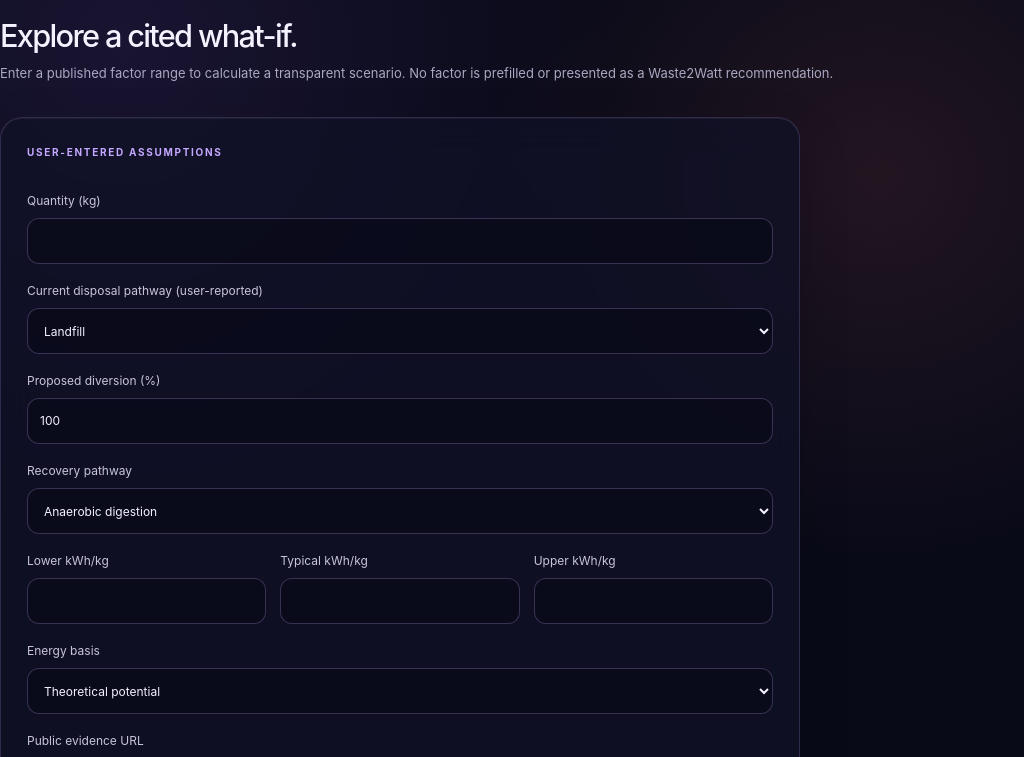
it: important application states › calculates cited scenario inputs and labels them as simulated
Type "2" into the number field labelled "Quantity (kg)" at (400, 241), box x1=27 y1=218 x2=773 y2=264
Replace the text in the number field labelled "Proposed diversion (%)" with "50" at (400, 421), box x1=27 y1=398 x2=773 y2=444
Type "0.1" into the number field labelled "Lower kWh/kg" at (147, 601), box x1=27 y1=578 x2=266 y2=624
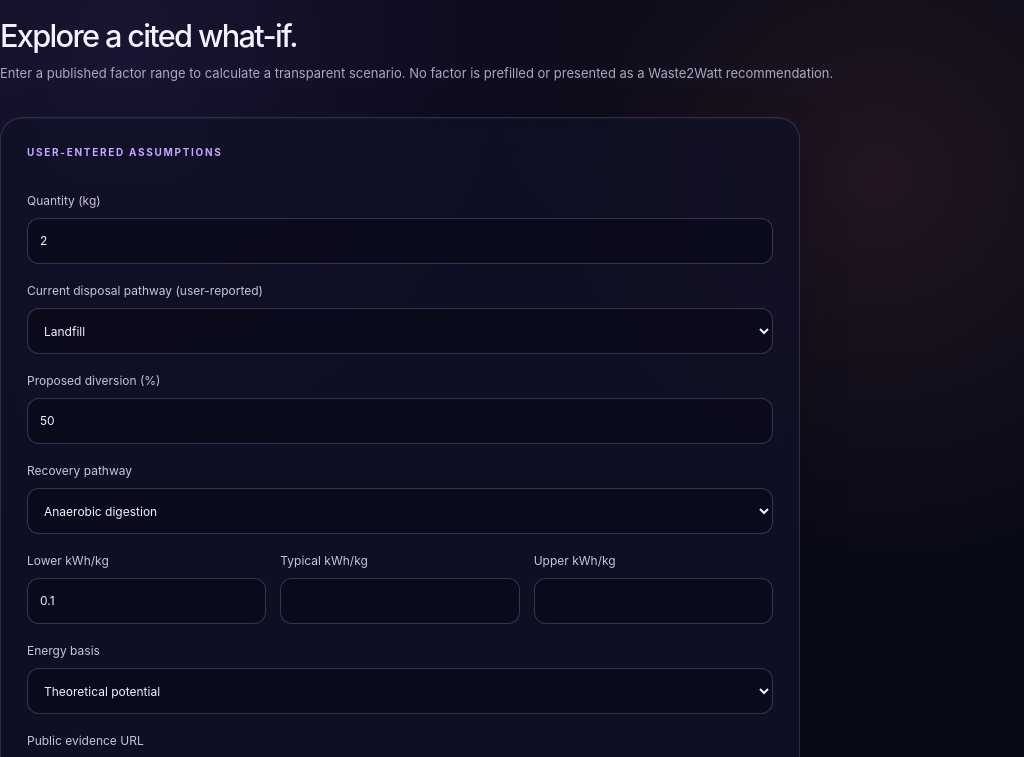
Type "0.2" into the number field labelled "Typical kWh/kg" at (400, 601), box x1=280 y1=578 x2=520 y2=624
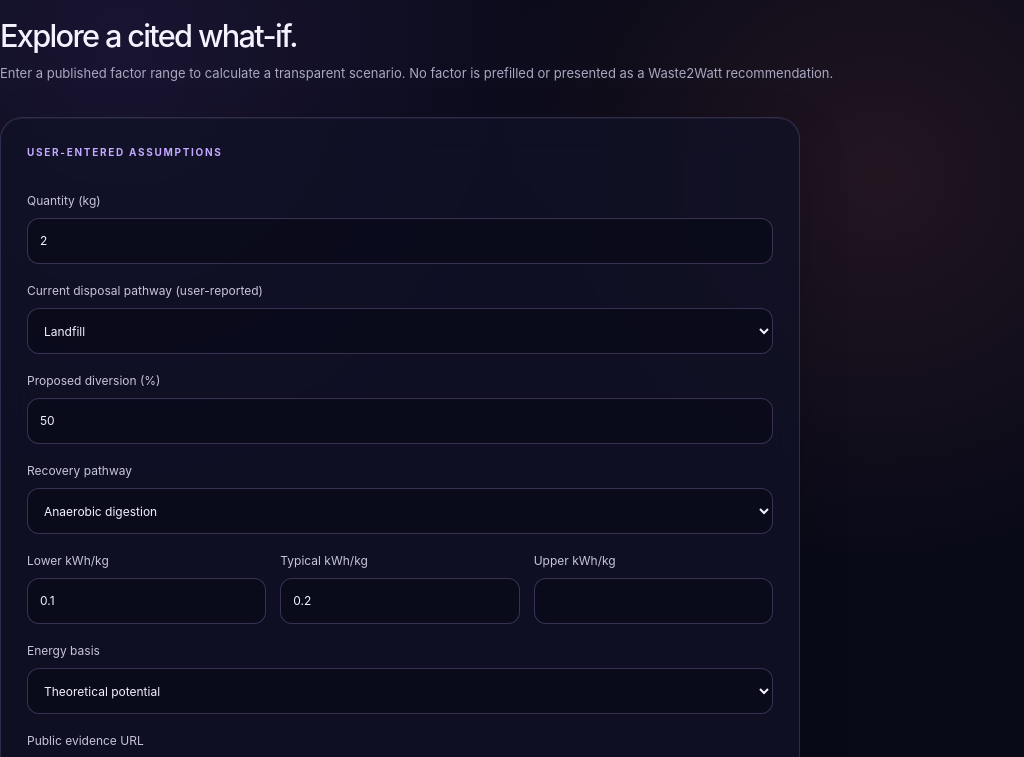
Type "0.3" into the number field labelled "Upper kWh/kg" at (653, 601), box x1=534 y1=578 x2=773 y2=624
(page scrolled)
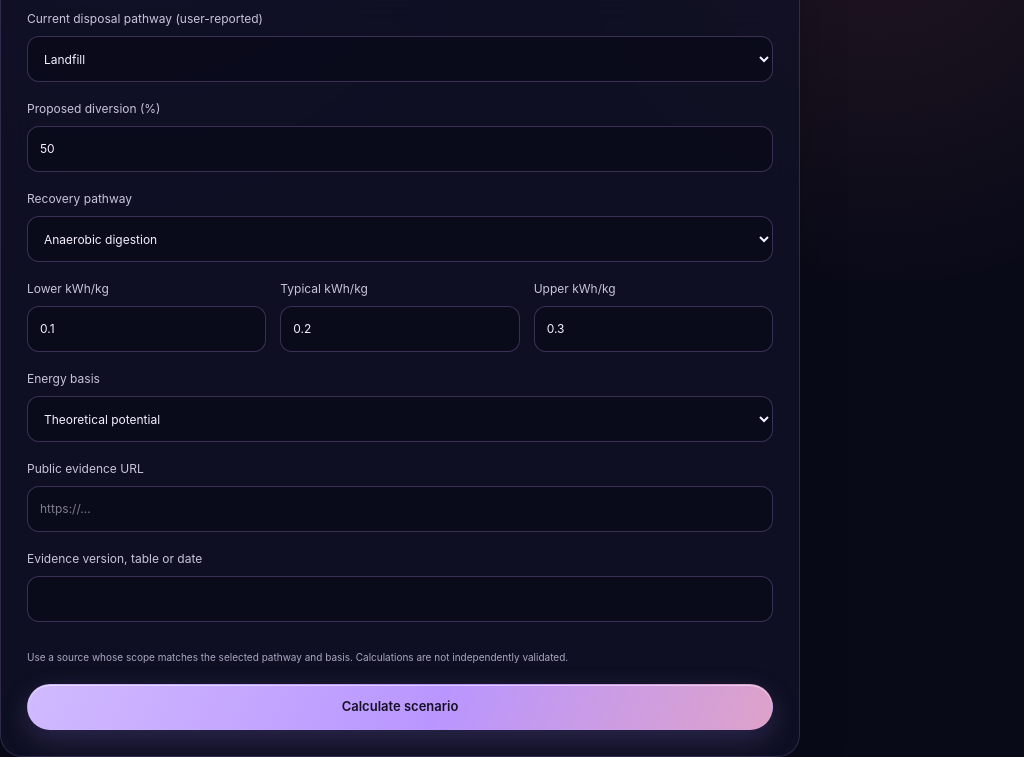
Type "https://example.org/study" into the field labelled "Public evidence URL" at (400, 509), box x1=27 y1=486 x2=773 y2=532
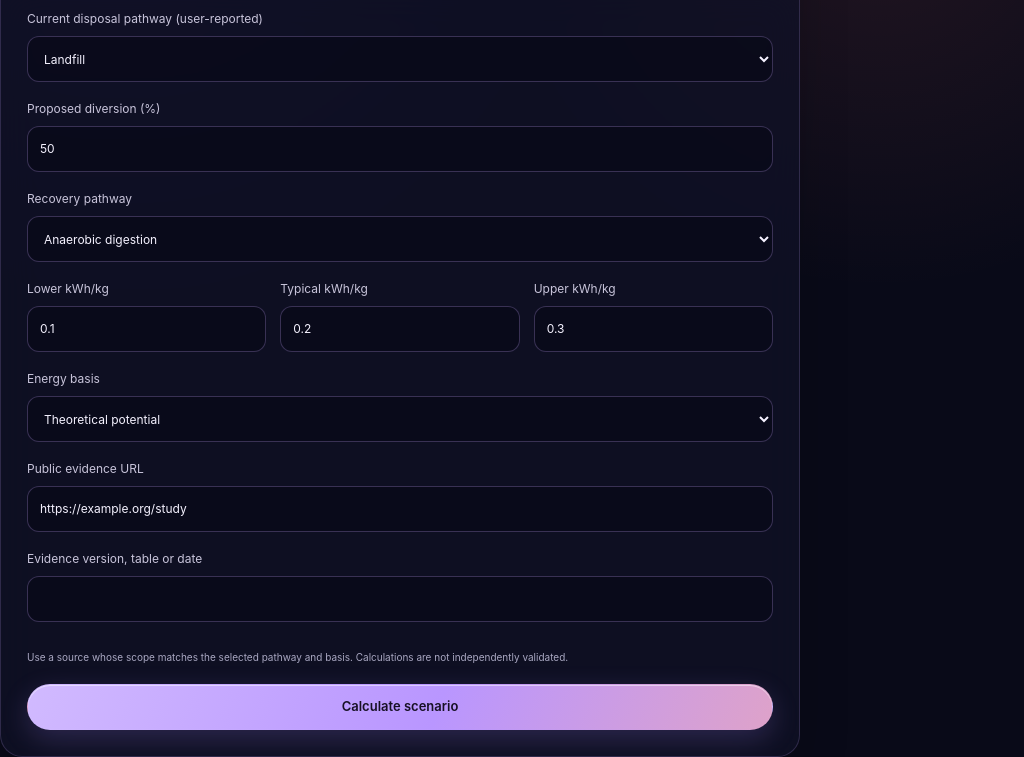
Type "Table 4" into the field labelled "Evidence version, table or date" at (400, 599), box x1=27 y1=576 x2=773 y2=622
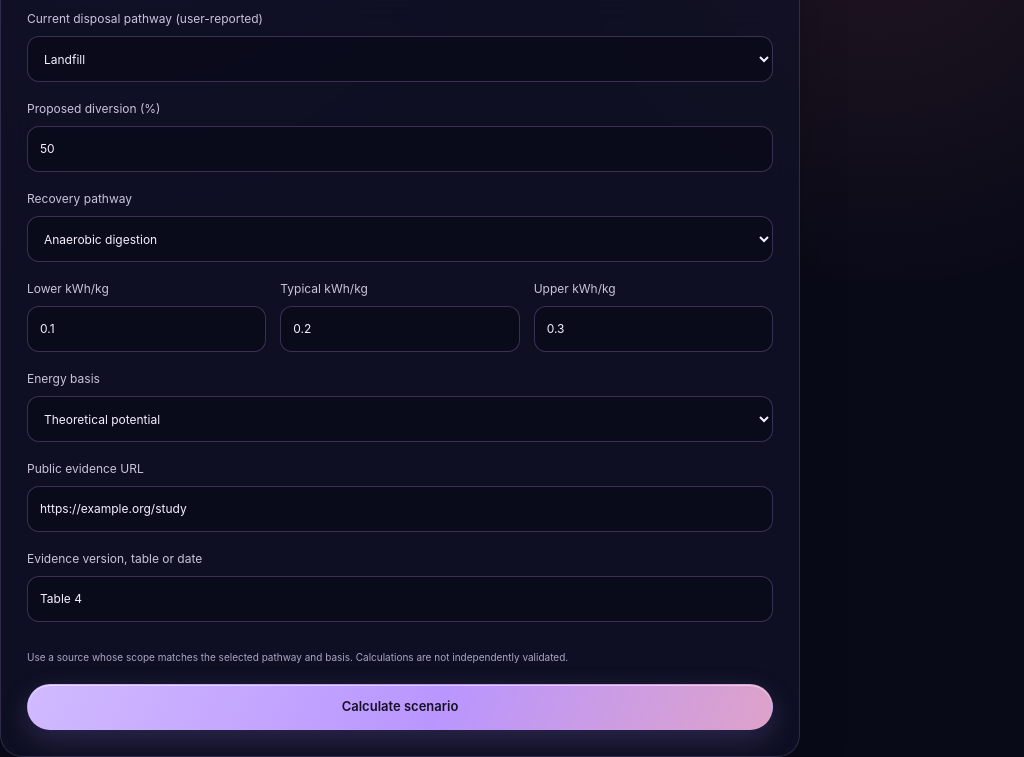
Click the button "Calculate scenario" at (400, 707), box x1=27 y1=684 x2=773 y2=730
(page scrolled)
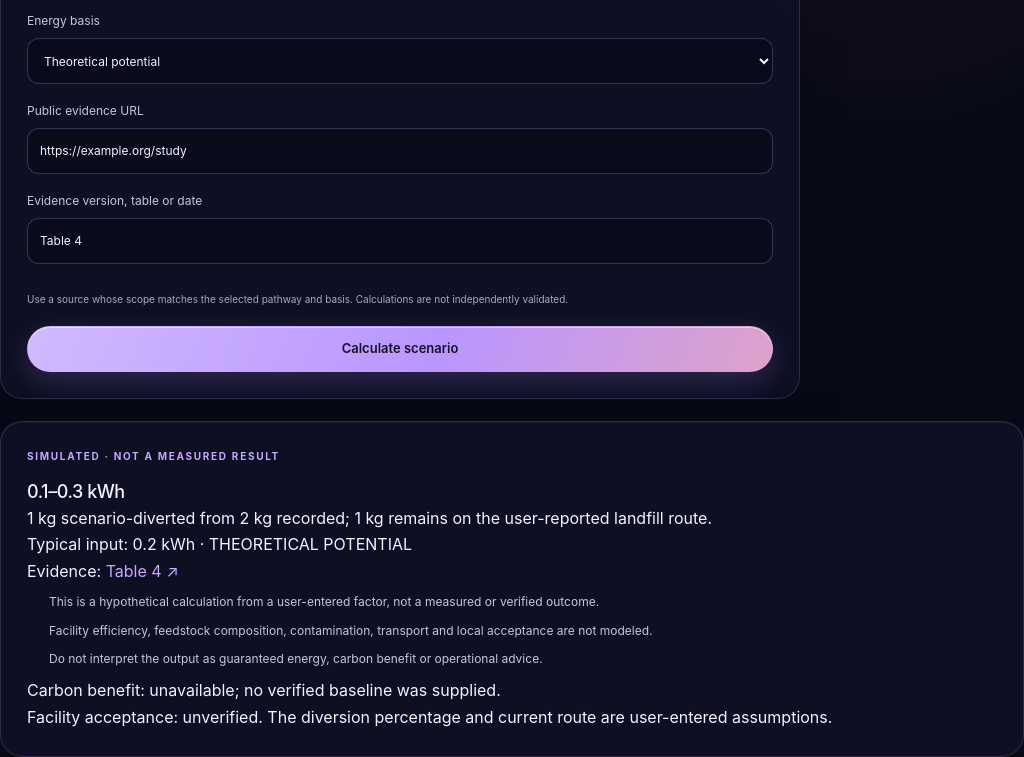
Check: the text "SIMULATED · NOT A MEASURED RESULT" is shown, box x1=27 y1=450 x2=280 y2=462
Check: the text "Typical input: 0.2 kWh · THEORETICAL POTENTIAL" is shown, box x1=27 y1=534 x2=412 y2=554
Check: the text "1 kg scenario-diverted from 2 kg" is shown, box x1=27 y1=508 x2=712 y2=528
